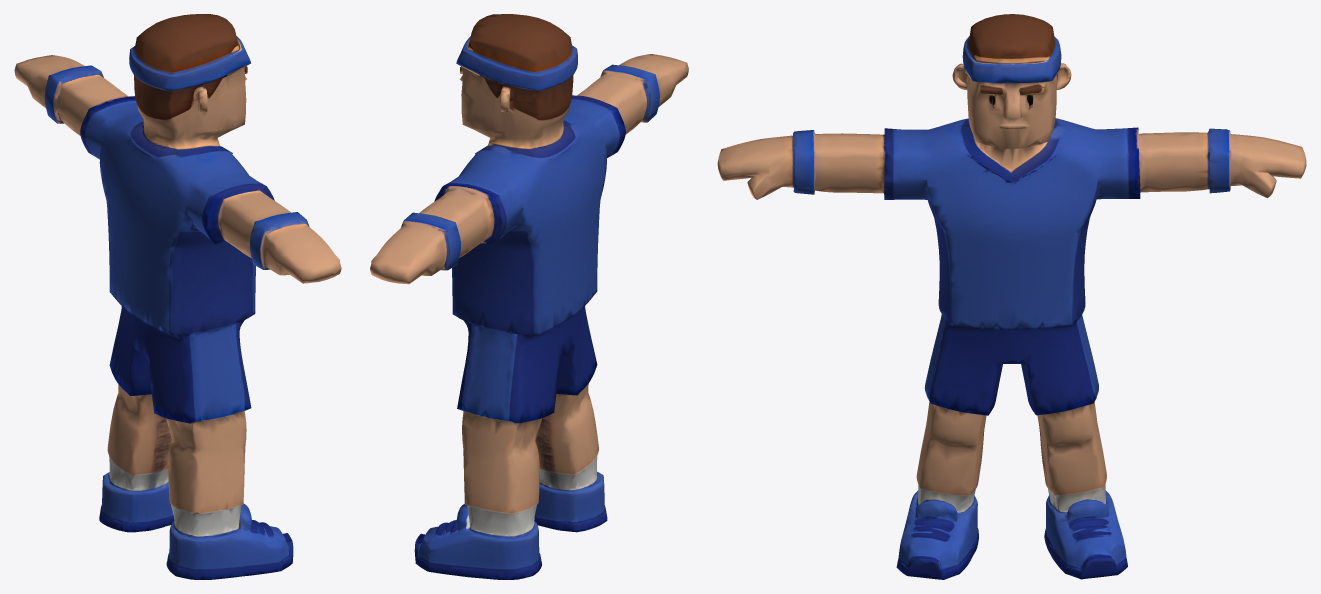
Rendered from player_c.glb.
3 renders of one model, left to right at view 1: azimuth 30°, elevation 25°; view 2: azimuth 150°, elevation 25°; view 3: azimuth 270°, elevation 25°, orthographic. The views are drawn at different scales.
Parts seen in each view (by area): view 1: tripo_node_ca828e79-5caf-4190-8deb-d950267fc311; view 2: tripo_node_ca828e79-5caf-4190-8deb-d950267fc311; view 3: tripo_node_ca828e79-5caf-4190-8deb-d950267fc311.
Part boxes in pixels (x1,y1,x2,y2): tripo_node_ca828e79-5caf-4190-8deb-d950267fc311: [14, 14, 341, 579]; tripo_node_ca828e79-5caf-4190-8deb-d950267fc311: [370, 14, 688, 579]; tripo_node_ca828e79-5caf-4190-8deb-d950267fc311: [717, 14, 1306, 579].
Bounding box in the file's own units: 0.2397 × 0.9898 × 1.
Materials: 1 (1 with a texture image).
